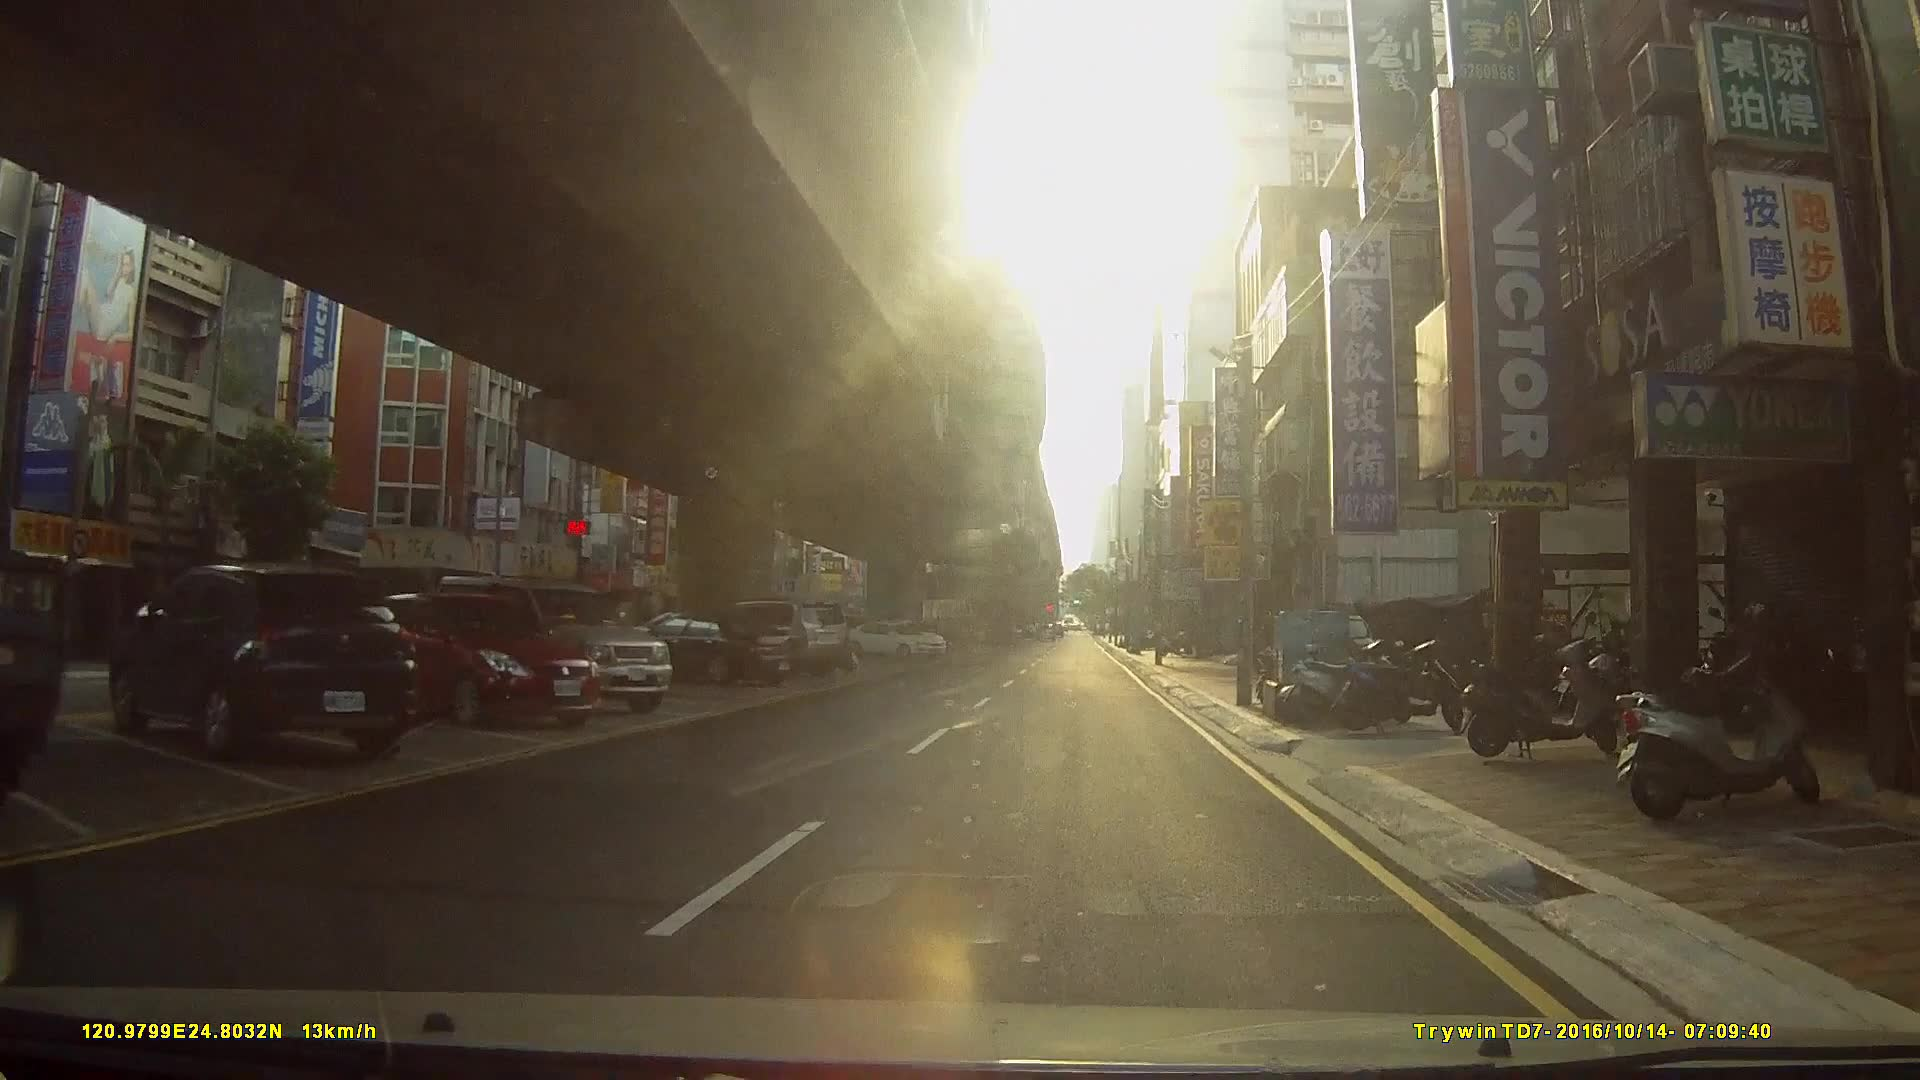vehicle: (105, 560, 415, 756), (429, 568, 674, 715), (369, 588, 603, 729), (621, 609, 804, 684), (698, 596, 853, 676), (843, 618, 945, 659)
